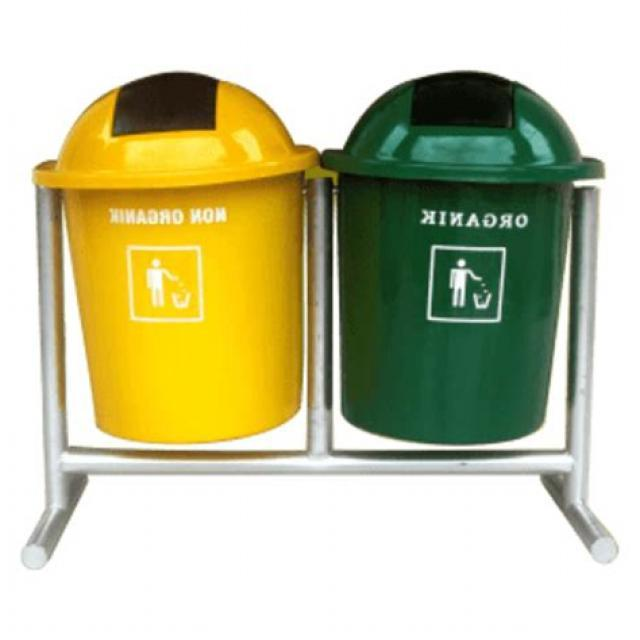garbage container: (324, 52, 606, 486), (42, 48, 306, 468)
